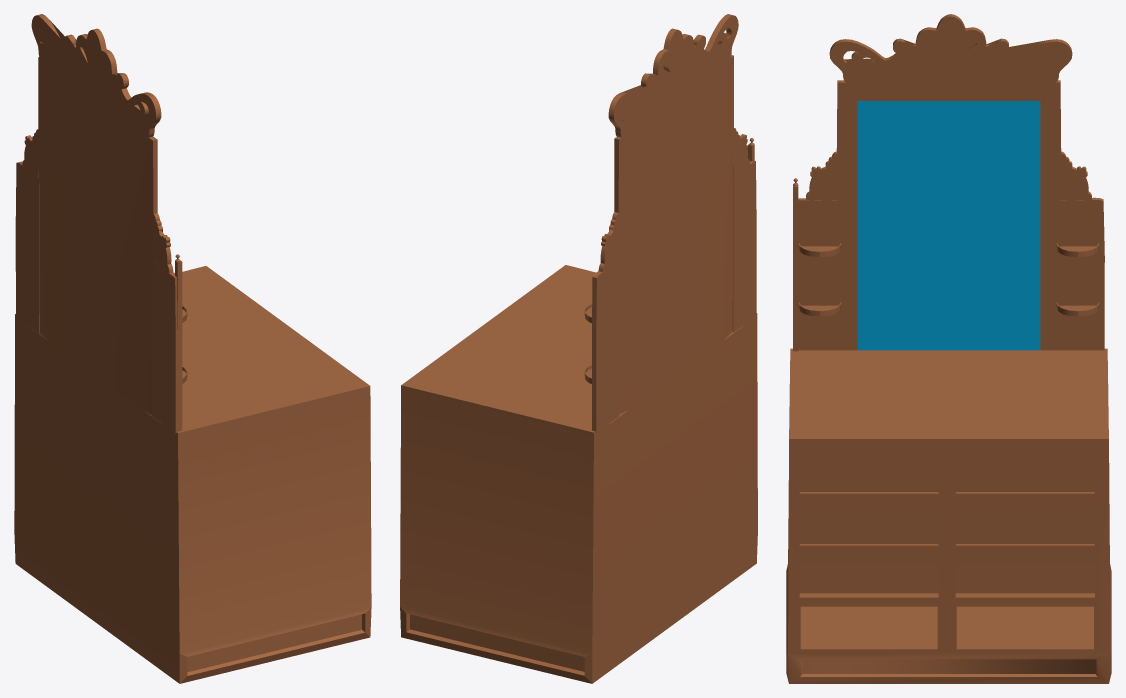
File: chestofdrawers.fbx
The picture shows the model from 3 angles, left to right: view 1: azimuth 30°, elevation 25°; view 2: azimuth 150°, elevation 25°; view 3: azimuth 270°, elevation 25°; orthographic projection. The views are drawn at different scales.
Visible parts, largest first — view 1: Plane.001; view 2: Plane.001; view 3: Plane.001.
Part boxes in pixels (x1=…): Plane.001: x1=14, y1=14, x2=371, y2=683; Plane.001: x1=400, y1=14, x2=757, y2=683; Plane.001: x1=786, y1=14, x2=1111, y2=683.
Bounding box in the file's own units: 472 × 1374 × 700.
